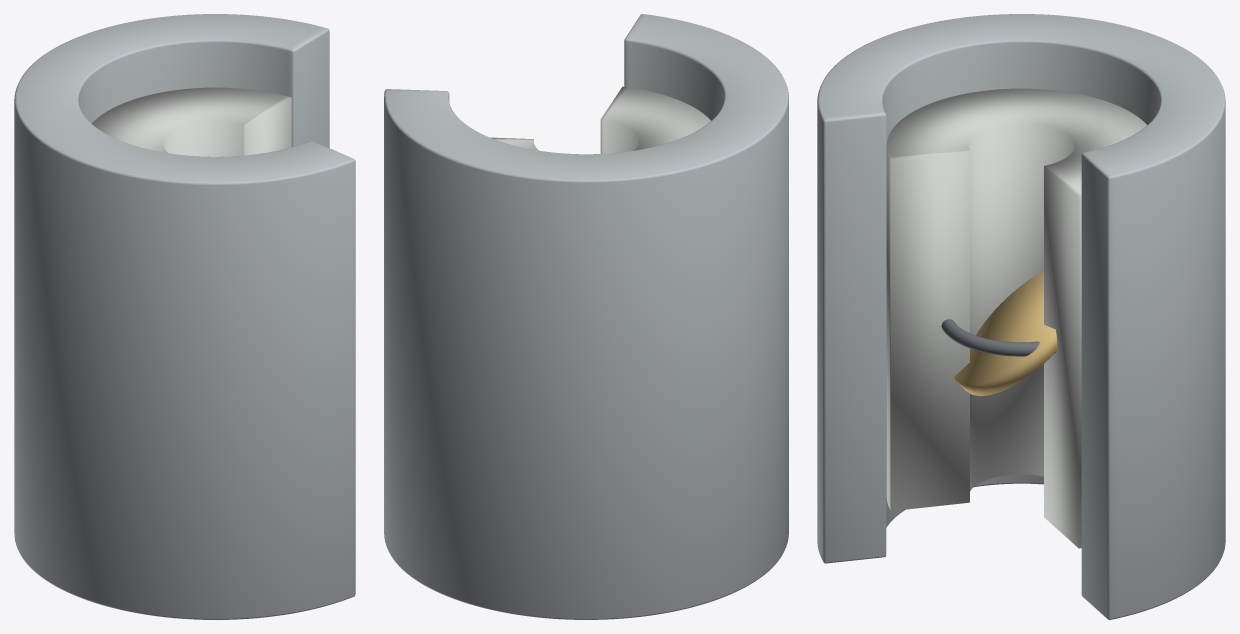
The model's file is float-collar.glb.
3 renders of one model, left to right at view 1: azimuth 30°, elevation 25°; view 2: azimuth 150°, elevation 25°; view 3: azimuth 270°, elevation 25°, orthographic.
Parts seen in each view (by area): view 1: Float collar, Cement fill; view 2: Float collar, Cement fill; view 3: Float collar, Cement fill, Flapper plate, Valve seat.
Boxes of the visible parts, x1,y1,x2,y2 form: Float collar: (14, 14, 355, 619); Cement fill: (92, 87, 291, 156); Float collar: (384, 14, 788, 619); Cement fill: (490, 86, 710, 153); Float collar: (817, 14, 1225, 619); Cement fill: (886, 88, 1147, 548); Flapper plate: (954, 271, 1057, 396); Valve seat: (941, 319, 1055, 356).
Bounding box in the file's own units: 1.9 × 2.4 × 2.
